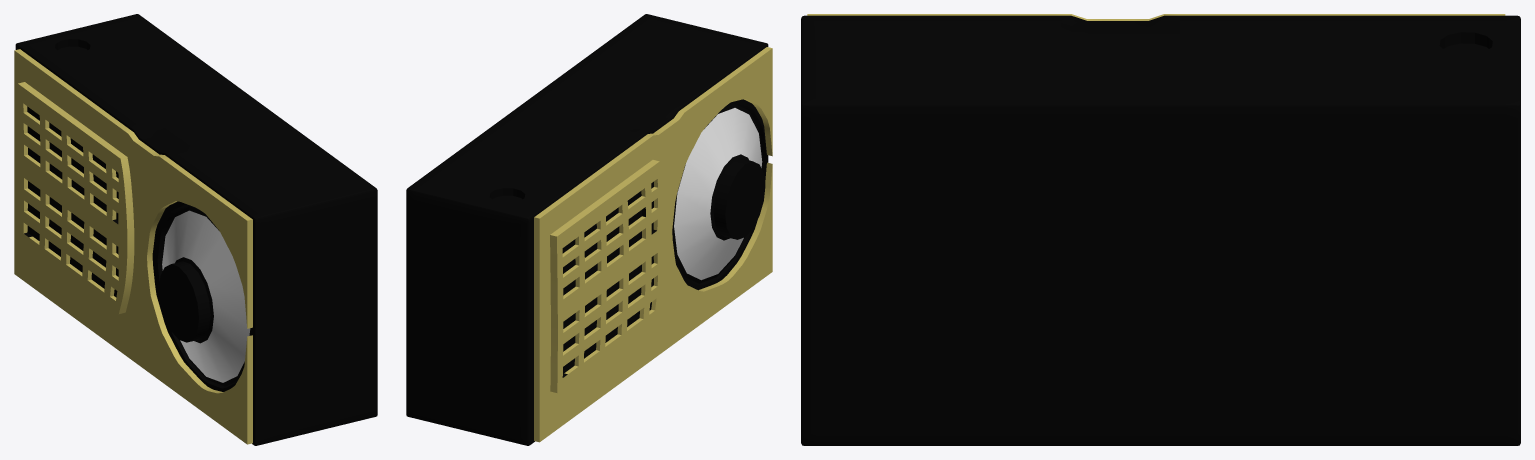
File: Spica.fbx
3 renders of one model, left to right at view 1: azimuth 30°, elevation 25°; view 2: azimuth 150°, elevation 25°; view 3: azimuth 270°, elevation 25°, orthographic. The views are drawn at different scales.
Visible parts, largest first — view 1: Spica; view 2: Spica; view 3: Spica.
Part boxes in pixels (x1,y1,x2,y2): Spica: [14, 14, 377, 445]; Spica: [406, 14, 772, 445]; Spica: [801, 14, 1520, 445].
Bounding box in the file's own units: 10.5 × 15.33 × 29.21.
